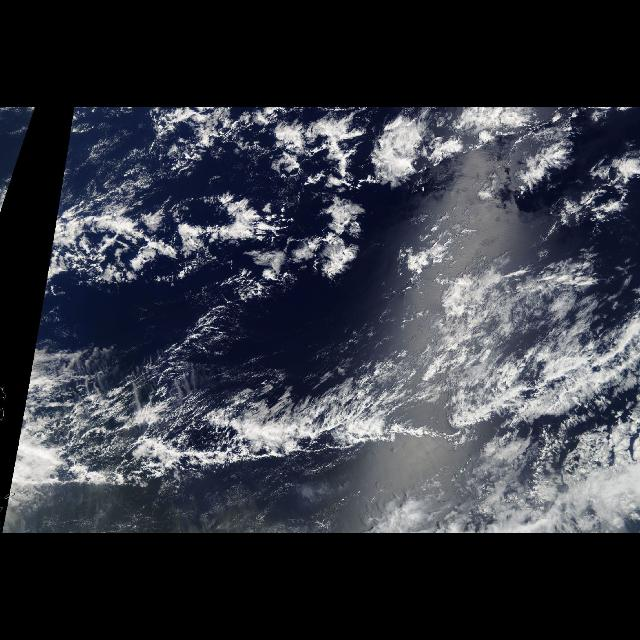Fish: (9, 298, 556, 512)
Flower: (142, 107, 540, 297)
